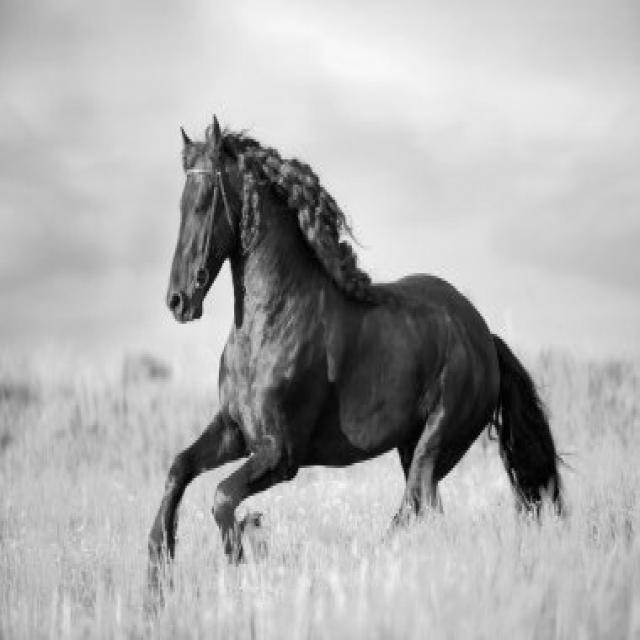Animal: (149, 120, 560, 564)
